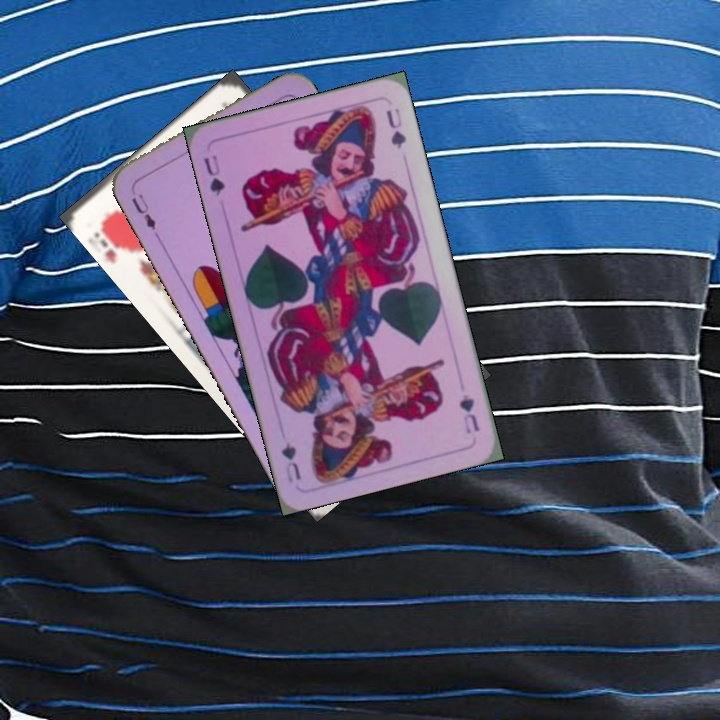EU: (127, 184, 159, 233)
GU: (199, 151, 228, 199), (455, 390, 483, 437)
HK: (89, 216, 134, 258)
